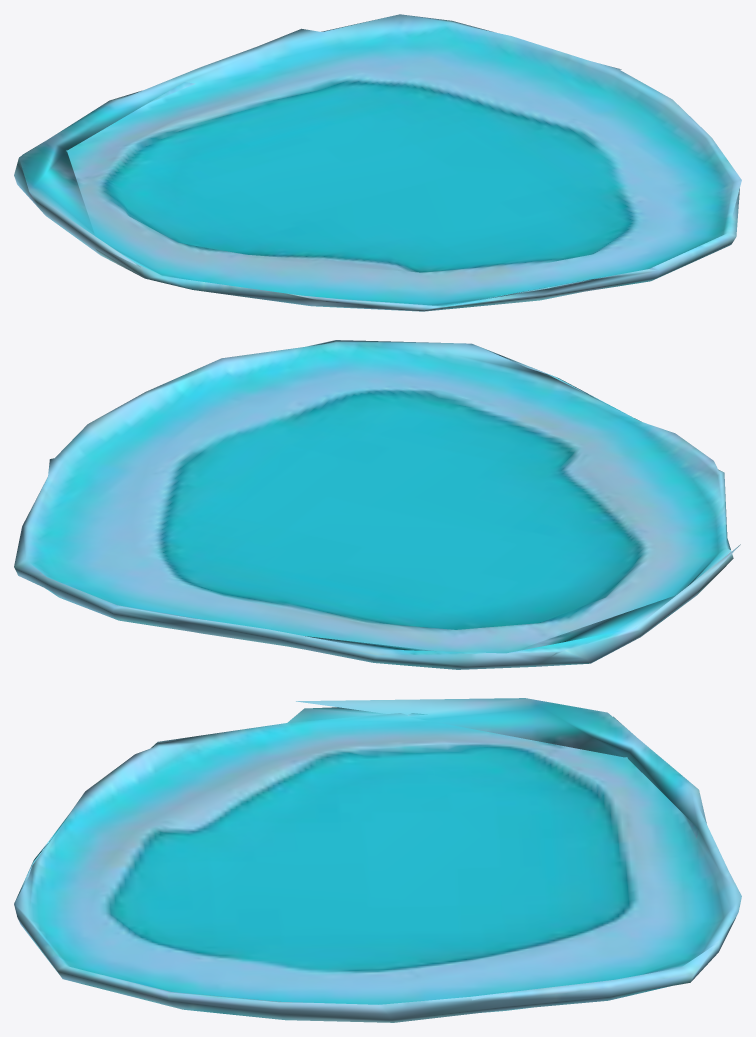
The model's file is water.glb.
The picture shows the model from 3 angles, top to bottom: view 1: azimuth 30°, elevation 25°; view 2: azimuth 150°, elevation 25°; view 3: azimuth 270°, elevation 25°; orthographic projection. The views are drawn at different scales.
Parts seen in each view (by area): view 1: Mesh0; view 2: Mesh0; view 3: Mesh0.
Boxes of the visible parts, x1=… form: Mesh0: x1=14, y1=14, x2=741, y2=311; Mesh0: x1=14, y1=340, x2=740, y2=669; Mesh0: x1=14, y1=698, x2=741, y2=1022.
Size of the model in its own units: 1.91 by 0.0736 by 1.91.
1 material, 1 textured.
